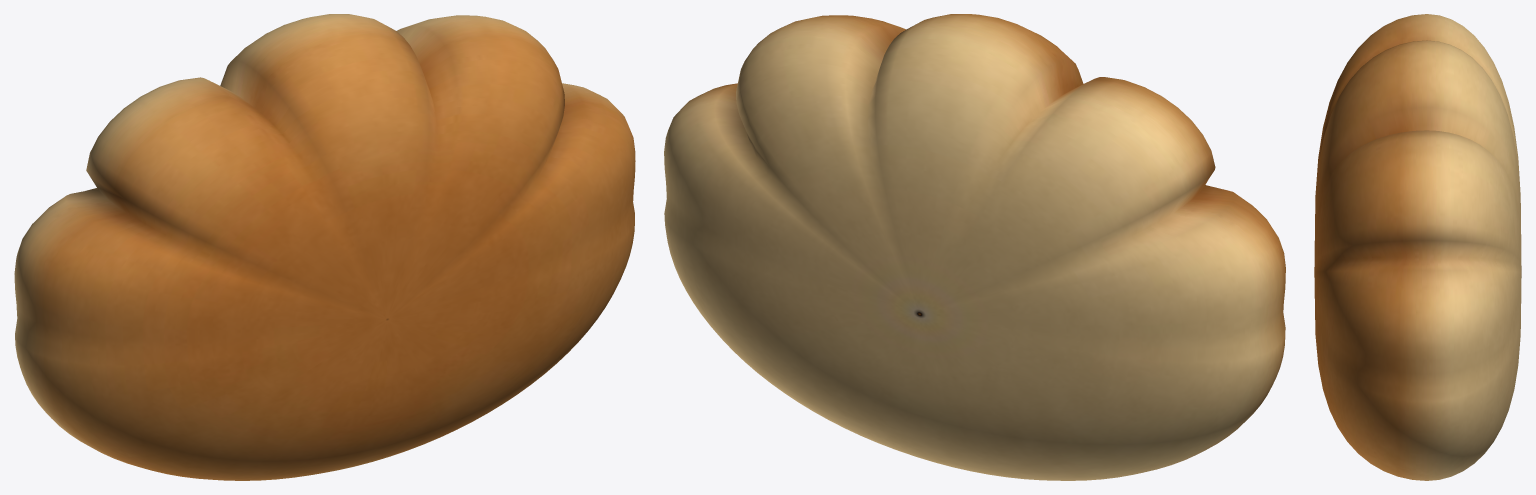
File: creampan.glb
3 views of the same model, side by side, from view 1: azimuth 30°, elevation 25°; view 2: azimuth 150°, elevation 25°; view 3: azimuth 270°, elevation 25° (orthographic). The views are drawn at different scales.
Visible parts, largest first — view 1: creampan; view 2: creampan; view 3: creampan.
Part boxes in pixels (<box>): creampan: <box>14,14,635,480</box>; creampan: <box>664,14,1285,480</box>; creampan: <box>1314,14,1521,480</box>.
Size of the model in its own units: 1.36 by 0.94 by 0.46.
1 material, 1 textured.
